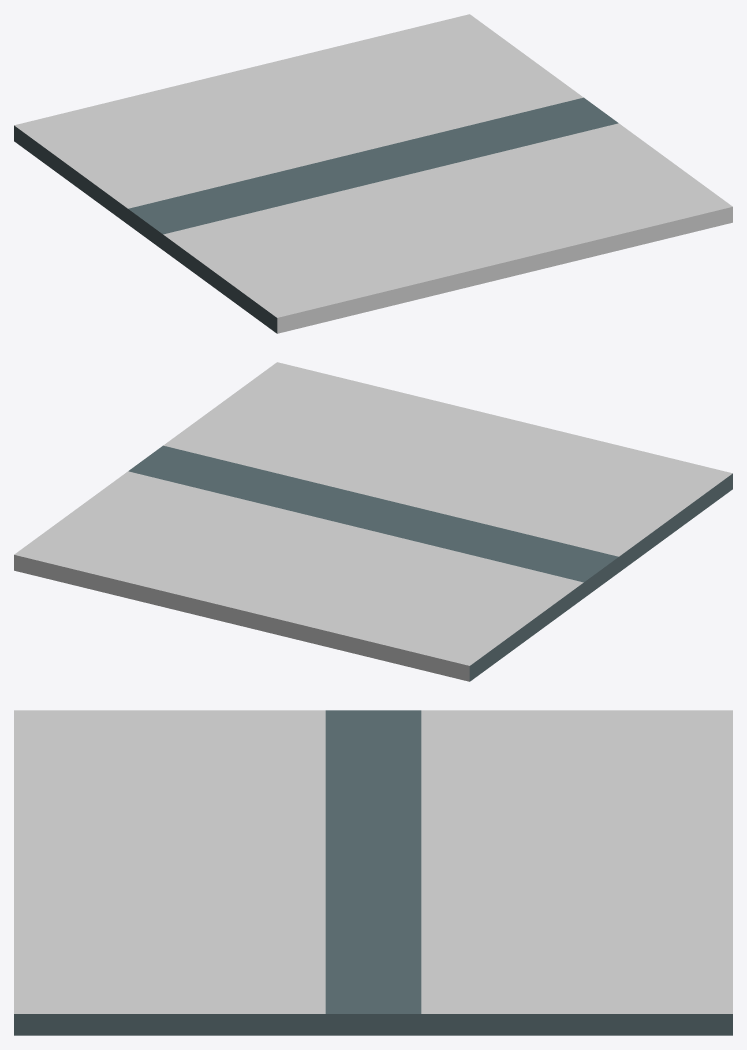
The model's file is scifi_floor_4.fbx.
The picture shows the model from 3 angles, top to bottom: view 1: azimuth 30°, elevation 25°; view 2: azimuth 150°, elevation 25°; view 3: azimuth 270°, elevation 25°; orthographic projection. The views are drawn at different scales.
Visible parts, largest first — view 1: Cube.023; view 2: Cube.023; view 3: Cube.023.
Part boxes in pixels (box(x1,y1,x2,y2)): Cube.023: box(14, 14, 732, 333); Cube.023: box(14, 362, 732, 681); Cube.023: box(14, 710, 732, 1035).
Bounding box in the file's own units: 3 × 0.1 × 3.
